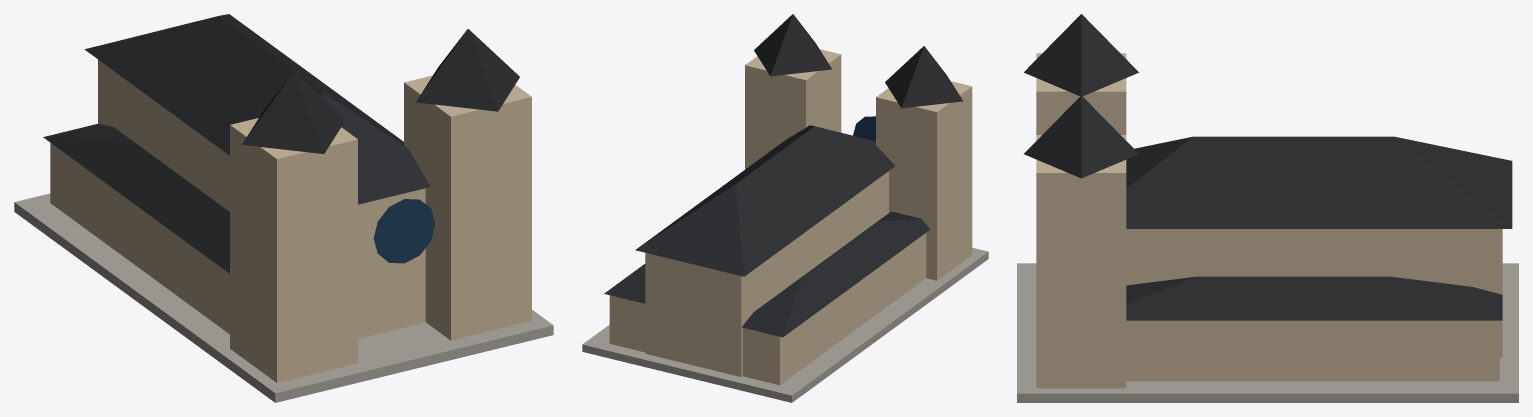
File: far.fbx
The picture shows the model from 3 angles, left to right: view 1: azimuth 30°, elevation 25°; view 2: azimuth 150°, elevation 25°; view 3: azimuth 270°, elevation 25°; orthographic projection. The views are drawn at different scales.
Visible parts, largest first — view 1: landmark-grand_cathedral/0/far; view 2: landmark-grand_cathedral/0/far; view 3: landmark-grand_cathedral/0/far.
Boxes of the visible parts, left/top/right/bottom form: landmark-grand_cathedral/0/far: left=14, top=14, right=553, bottom=402; landmark-grand_cathedral/0/far: left=582, top=14, right=988, bottom=402; landmark-grand_cathedral/0/far: left=1017, top=14, right=1518, bottom=402.
Size of the model in its own units: 48 by 48.5 by 78.
